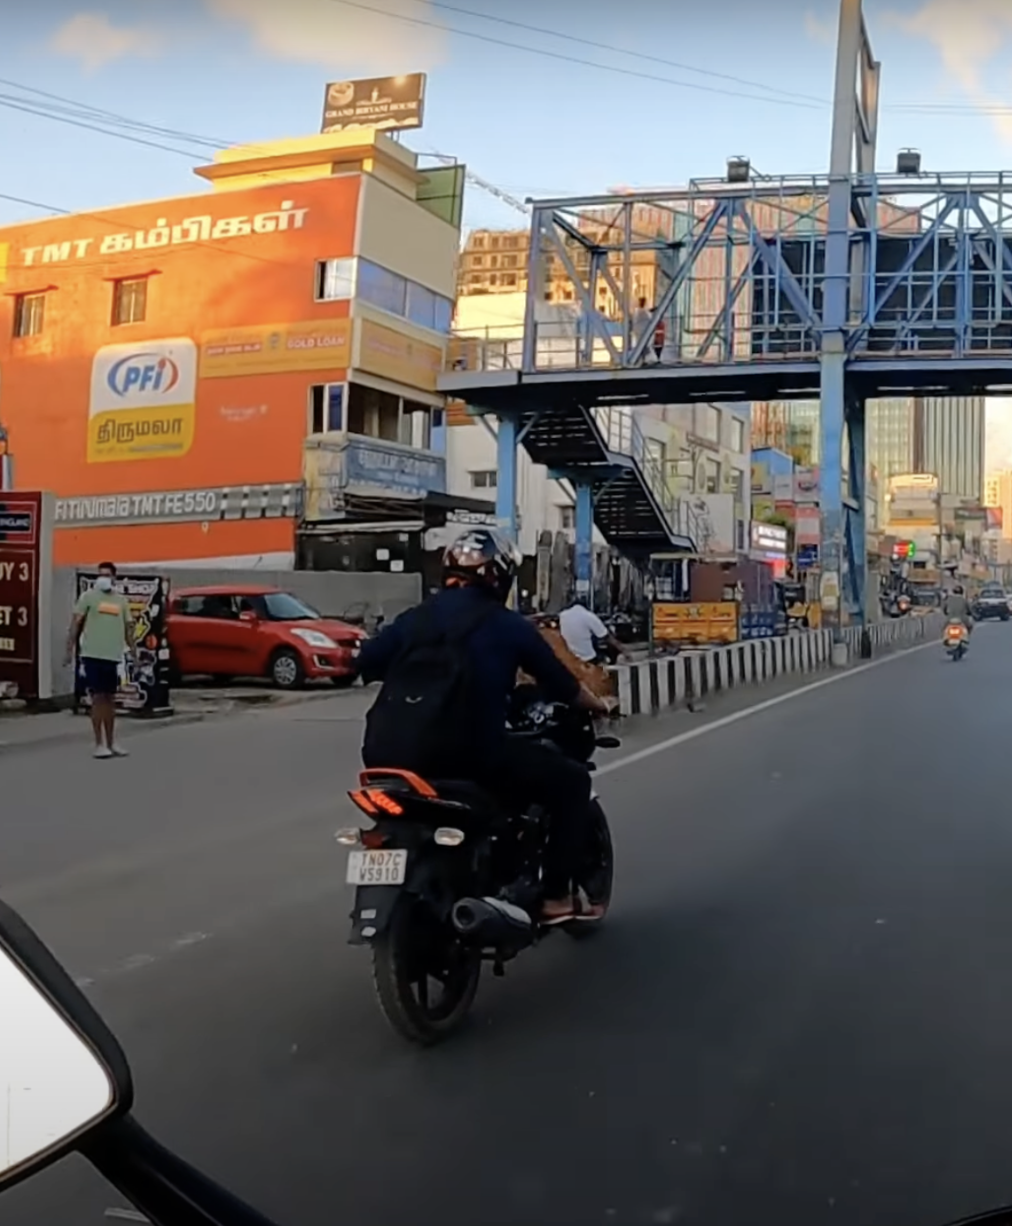motor: (227, 680, 795, 1037)
number: (330, 828, 430, 892)
with helmet: (400, 503, 538, 600)
